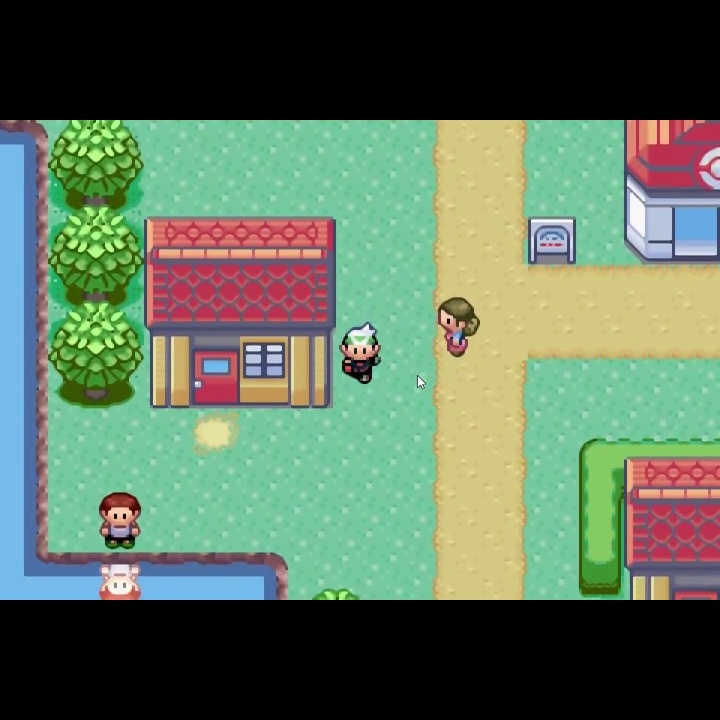house: (143, 214, 338, 411), (623, 454, 720, 600)
npc: (434, 294, 483, 361), (338, 321, 384, 386), (97, 491, 142, 552)
pokecen: (620, 120, 719, 263)
wall: (49, 303, 144, 411), (48, 206, 144, 304), (48, 120, 145, 207)
